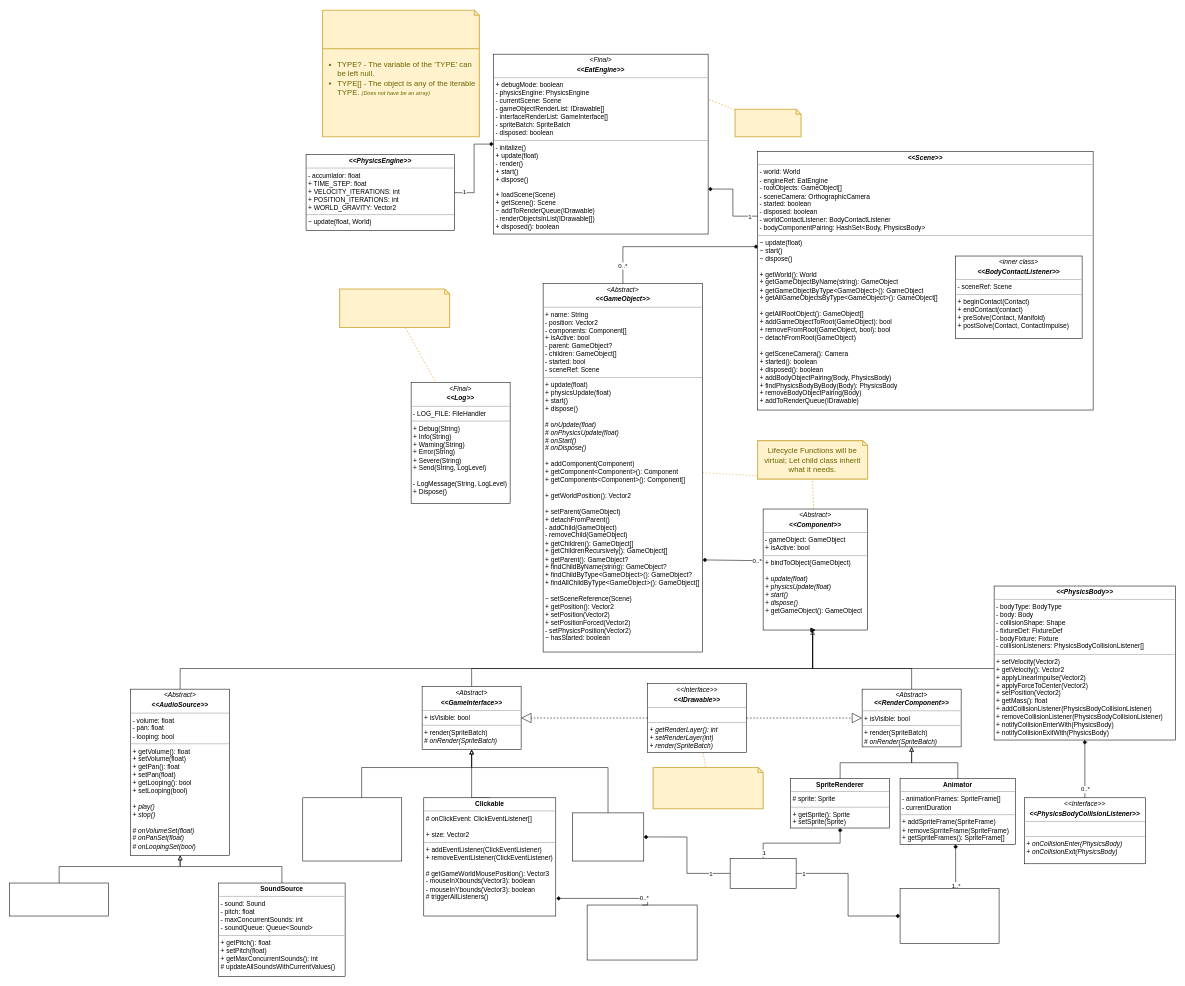
This 1185x986 diagram has some shape labels left out. The shapes that lost their labels are listed below. From the top down, each one's centre as x and y in pixels, then its label:
At pixel 401 29: "README".
At pixel 767 122: "One per game".
At pixel 394 308: "For logging".
At pixel 707 788: "Highest render layer -> gets drawn last. (overlaps all)".
At pixel 352 829: "Text + content: string # font: BitmapFont + getFont(): BitmapFont".
At pixel 608 836: "Image # sprite: Sprite + getSprite(): Sprite".
At pixel 763 873: "Sprite (From LibGDX)".
At pixel 59 899: "MusicSource - music: Music".
At pixel 949 916: "SpriteFrame - duration: float # sprite: Sprite + getSprite(): Sprite".
At pixel 642 932: "<<Interface>> <<ClickEventListener>> + onClickEvent(Clickable)".
